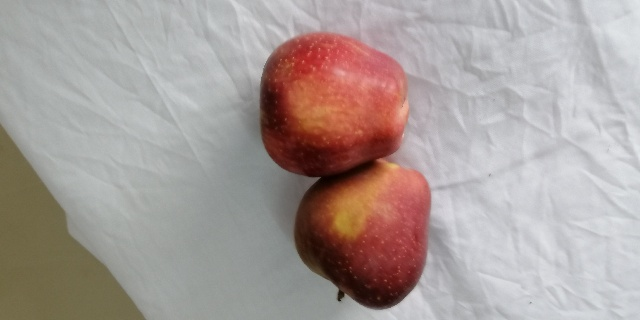apple_kashmir: (259, 27, 409, 177), (294, 157, 434, 313)
